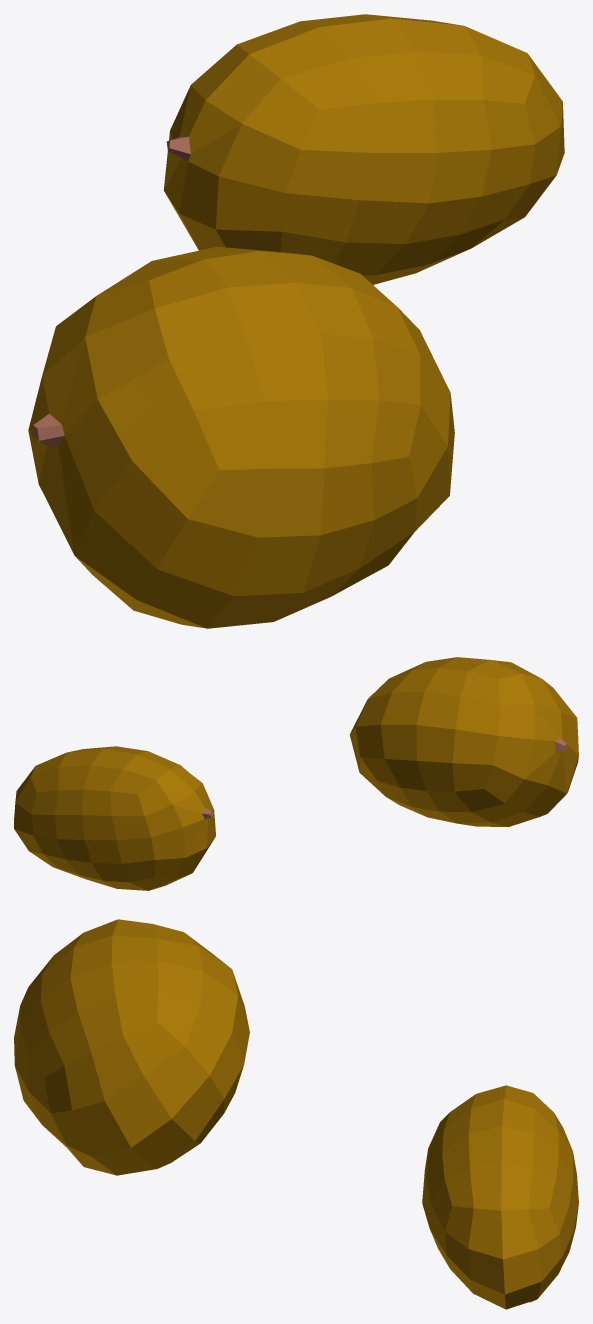
Rendered from oranges1.glb.
3 views of the same model, one above another, from view 1: azimuth 30°, elevation 25°; view 2: azimuth 150°, elevation 25°; view 3: azimuth 270°, elevation 25° (orthographic). The views are drawn at different scales.
Visible parts, largest first — view 1: SM_fruit_mango_yecan_brown_light_0; view 2: SM_fruit_mango_yecan_brown_light_0; view 3: SM_fruit_mango_yecan_brown_light_0.
Boxes of the visible parts, <box> form: SM_fruit_mango_yecan_brown_light_0: <box>28,14,564,628</box>; SM_fruit_mango_yecan_brown_light_0: <box>14,657,578,890</box>; SM_fruit_mango_yecan_brown_light_0: <box>14,919,578,1309</box>.
Bounding box in the file's own units: 149 × 56.68 × 140.
2 materials, 2 textured.
